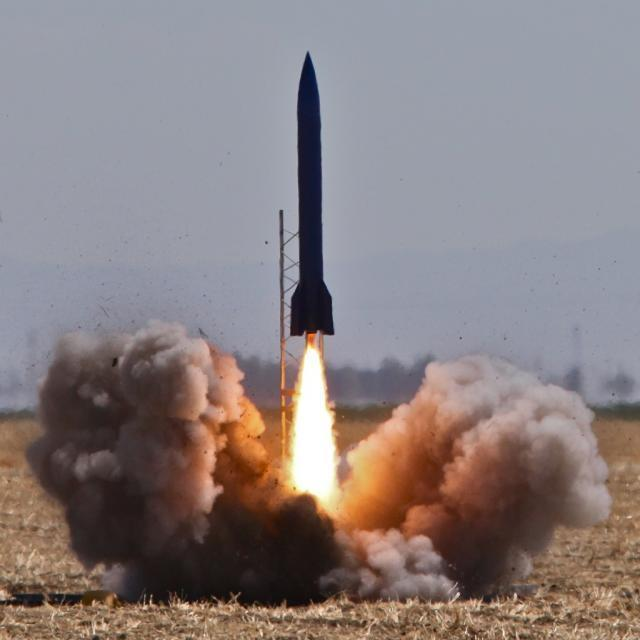Missile: (290, 51, 333, 335)
